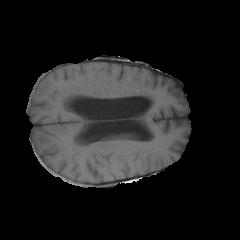glioma: (59, 77, 155, 100)
